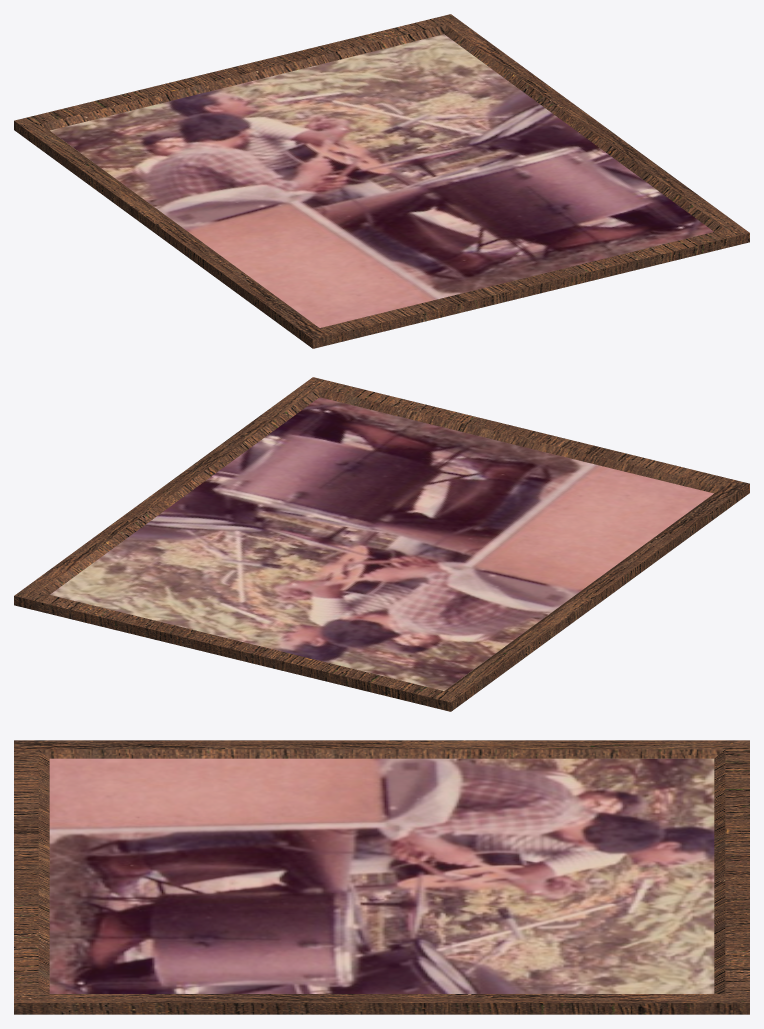
3 views of the same model, one above another, from view 1: azimuth 30°, elevation 25°; view 2: azimuth 150°, elevation 25°; view 3: azimuth 270°, elevation 25° (orthographic). The views are drawn at different scales.
Visible parts, largest first — view 1: Plane, frame1(1); view 2: Plane, frame1(1); view 3: Plane, frame1(1).
Part boxes in pixels (box(x1,y1,x2,y2)): Plane: box(50, 34, 713, 327); frame1(1): box(14, 14, 749, 348); Plane: box(50, 397, 713, 690); frame1(1): box(14, 377, 749, 711); Plane: box(49, 758, 714, 993); frame1(1): box(14, 740, 749, 1014).
Bounding box in the file's own units: 20.77 × 0.4268 × 24.62.
Materials: 2 (2 with a texture image).
